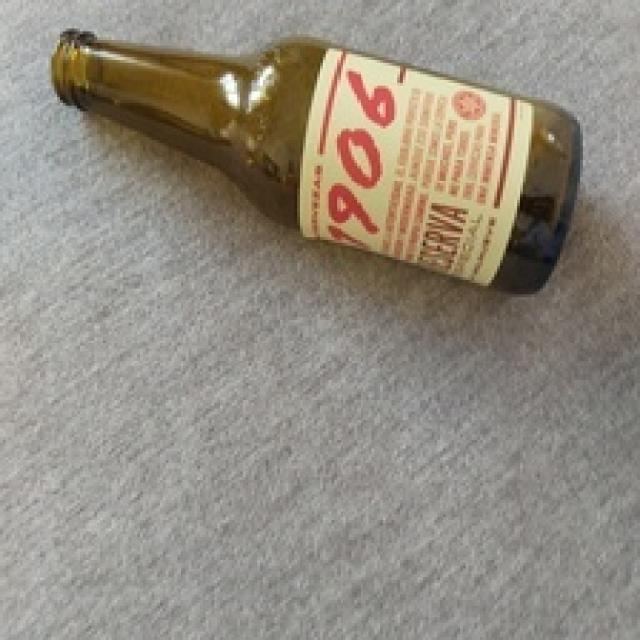Glass: (49, 28, 584, 296)
